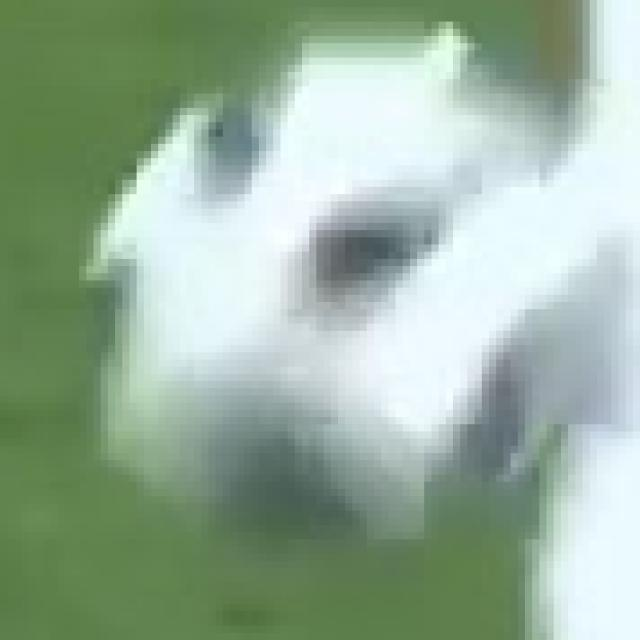ballon: (7, 7, 640, 640)
